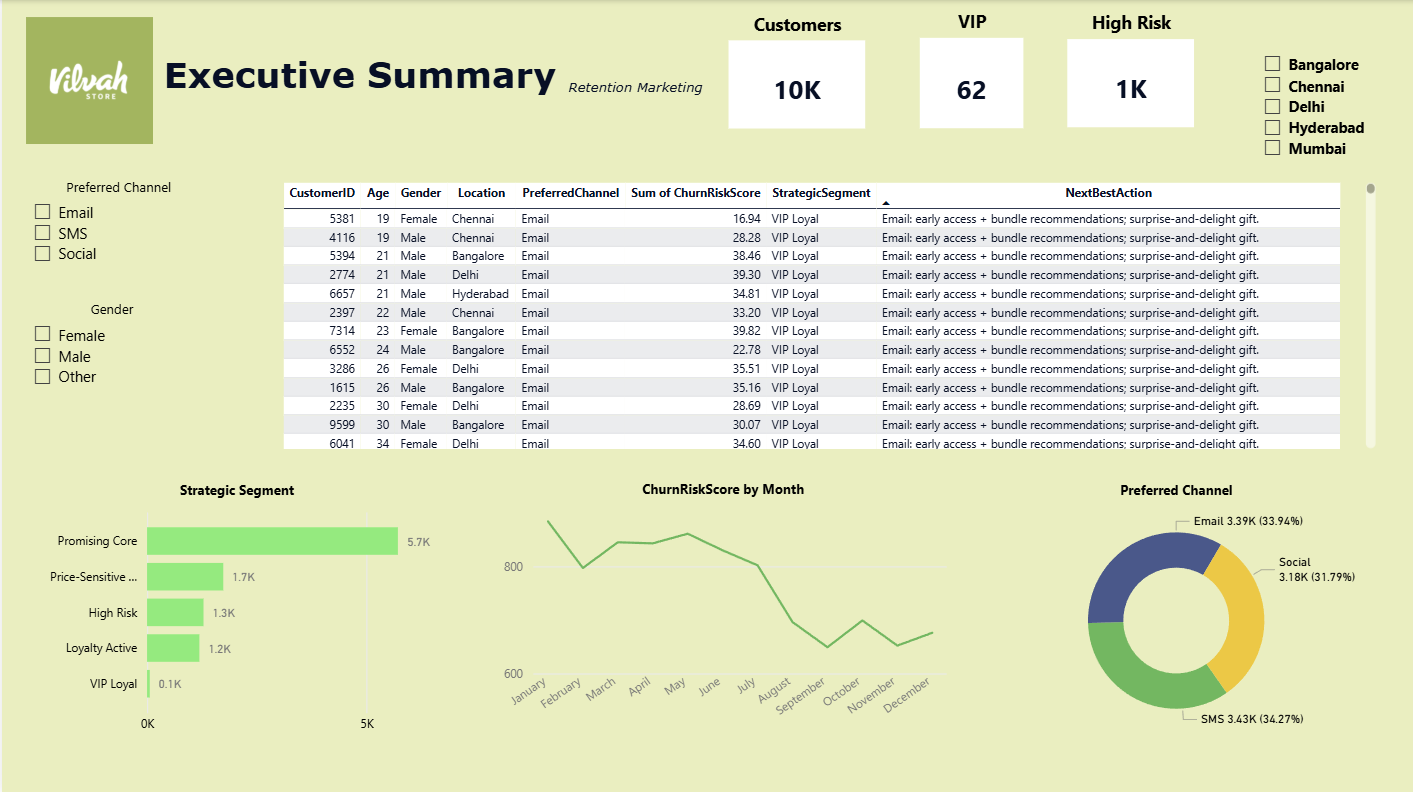

The page's visual inventory and layout, read from the dashboard file:
{"tool":"powerbi","page":{"name":"SUMMARY","canvas":[1280,720],"ordinal":0},"visuals":[{"type":"cardVisual","title":"Customers","fields":{"Data":["ChannelSplit.Total Customers"]},"box":[654.7,10.5,134.9,111.6],"z":0},{"type":"clusteredBarChart","title":"Strategic Segment","fields":{"Y":["CountNonNull(ChurnSignals.CustomerID)"],"Category":["ChurnSignals.StrategicSegment"]},"box":[23.9,436.6,379,237.2],"z":1000},{"type":"donutChart","title":"Preferred Channel","fields":{"Category":["Targets.PreferredChannel"],"Y":["CountNonNull(Targets.CustomerID)"]},"box":[880.2,437.2,370.9,237.2],"z":2000},{"type":"image","box":[17,9.1,124.8,128.2],"z":3000},{"type":"slicer","title":"Gender","fields":{"Values":["Targets.Gender"]},"box":[16.8,272.3,165.7,112.3],"z":4000},{"type":"slicer","title":"Preferred Channel","fields":{"Values":["Targets.PreferredChannel"]},"box":[16.9,160.9,177.9,111.3],"z":5000},{"type":"tableEx","fields":{"Values":["Targets.CustomerID","Targets.Age","Targets.Gender","Targets.Location","Targets.PreferredChannel","Sum(Targets.ChurnRiskScore)","Targets.StrategicSegment","Targets.NextBestAction"]},"box":[249.3,160.9,1001.9,250.5],"z":6000},{"type":"cardVisual","title":"VIP","fields":{"Data":["SegmentSummary.VIP"]},"box":[827.9,8.1,104.7,114],"z":7000},{"type":"cardVisual","title":"High Risk","fields":{"Data":["ChannelSplit.High Risk"]},"box":[961.8,9.1,125.9,112.3],"z":8000},{"type":"lineChart","title":"ChurnRiskScore by Month","fields":{"Category":["ChurnSignals.OrderDate.Variation.Date Hierarchy.Month"],"Y":["Count(ChurnSignals.ChurnRiskScore)"]},"box":[446.5,436,415.1,226.7],"z":9000},{"type":"slicer","fields":{"Values":["Targets.Location"]},"box":[1132.9,43.5,117.9,105.3],"z":10000},{"type":"textbox","box":[1088,0,150,150],"z":11000},{"type":"textbox","box":[1088,0,150,150],"z":12000},{"type":"textbox","box":[1088,0,150,150],"z":13000},{"type":"textbox","box":[1088,0,150,150],"z":14000},{"type":"textbox","box":[1088,0,150,150],"z":15000},{"type":"textbox","box":[1088,0,150,150],"z":16000},{"type":"textbox","box":[141.9,43,512.8,68.6],"z":17000}]}

Visuals, with their boxes in screenshot pixels (x1, y1, x2, y2), scaled from the page's 1280x720 canvas onto the 1413x792 screenshot:
"Customers" cardVisual: rect(723, 12, 872, 134)
"Strategic Segment" clusteredBarChart: rect(26, 480, 445, 741)
"Preferred Channel" donutChart: rect(972, 481, 1381, 742)
image: rect(19, 10, 157, 151)
"Gender" slicer: rect(19, 300, 201, 423)
"Preferred Channel" slicer: rect(19, 177, 215, 299)
tableEx - Targets.CustomerID x Targets.Age: rect(275, 177, 1381, 453)
"VIP" cardVisual: rect(914, 9, 1030, 134)
"High Risk" cardVisual: rect(1062, 10, 1201, 134)
"ChurnRiskScore by Month" lineChart: rect(493, 480, 951, 729)
slicer - Targets.Location: rect(1251, 48, 1381, 164)
textbox: rect(1201, 0, 1367, 165)
textbox: rect(1201, 0, 1367, 165)
textbox: rect(1201, 0, 1367, 165)
textbox: rect(1201, 0, 1367, 165)
textbox: rect(1201, 0, 1367, 165)
textbox: rect(1201, 0, 1367, 165)
textbox: rect(157, 47, 723, 123)
